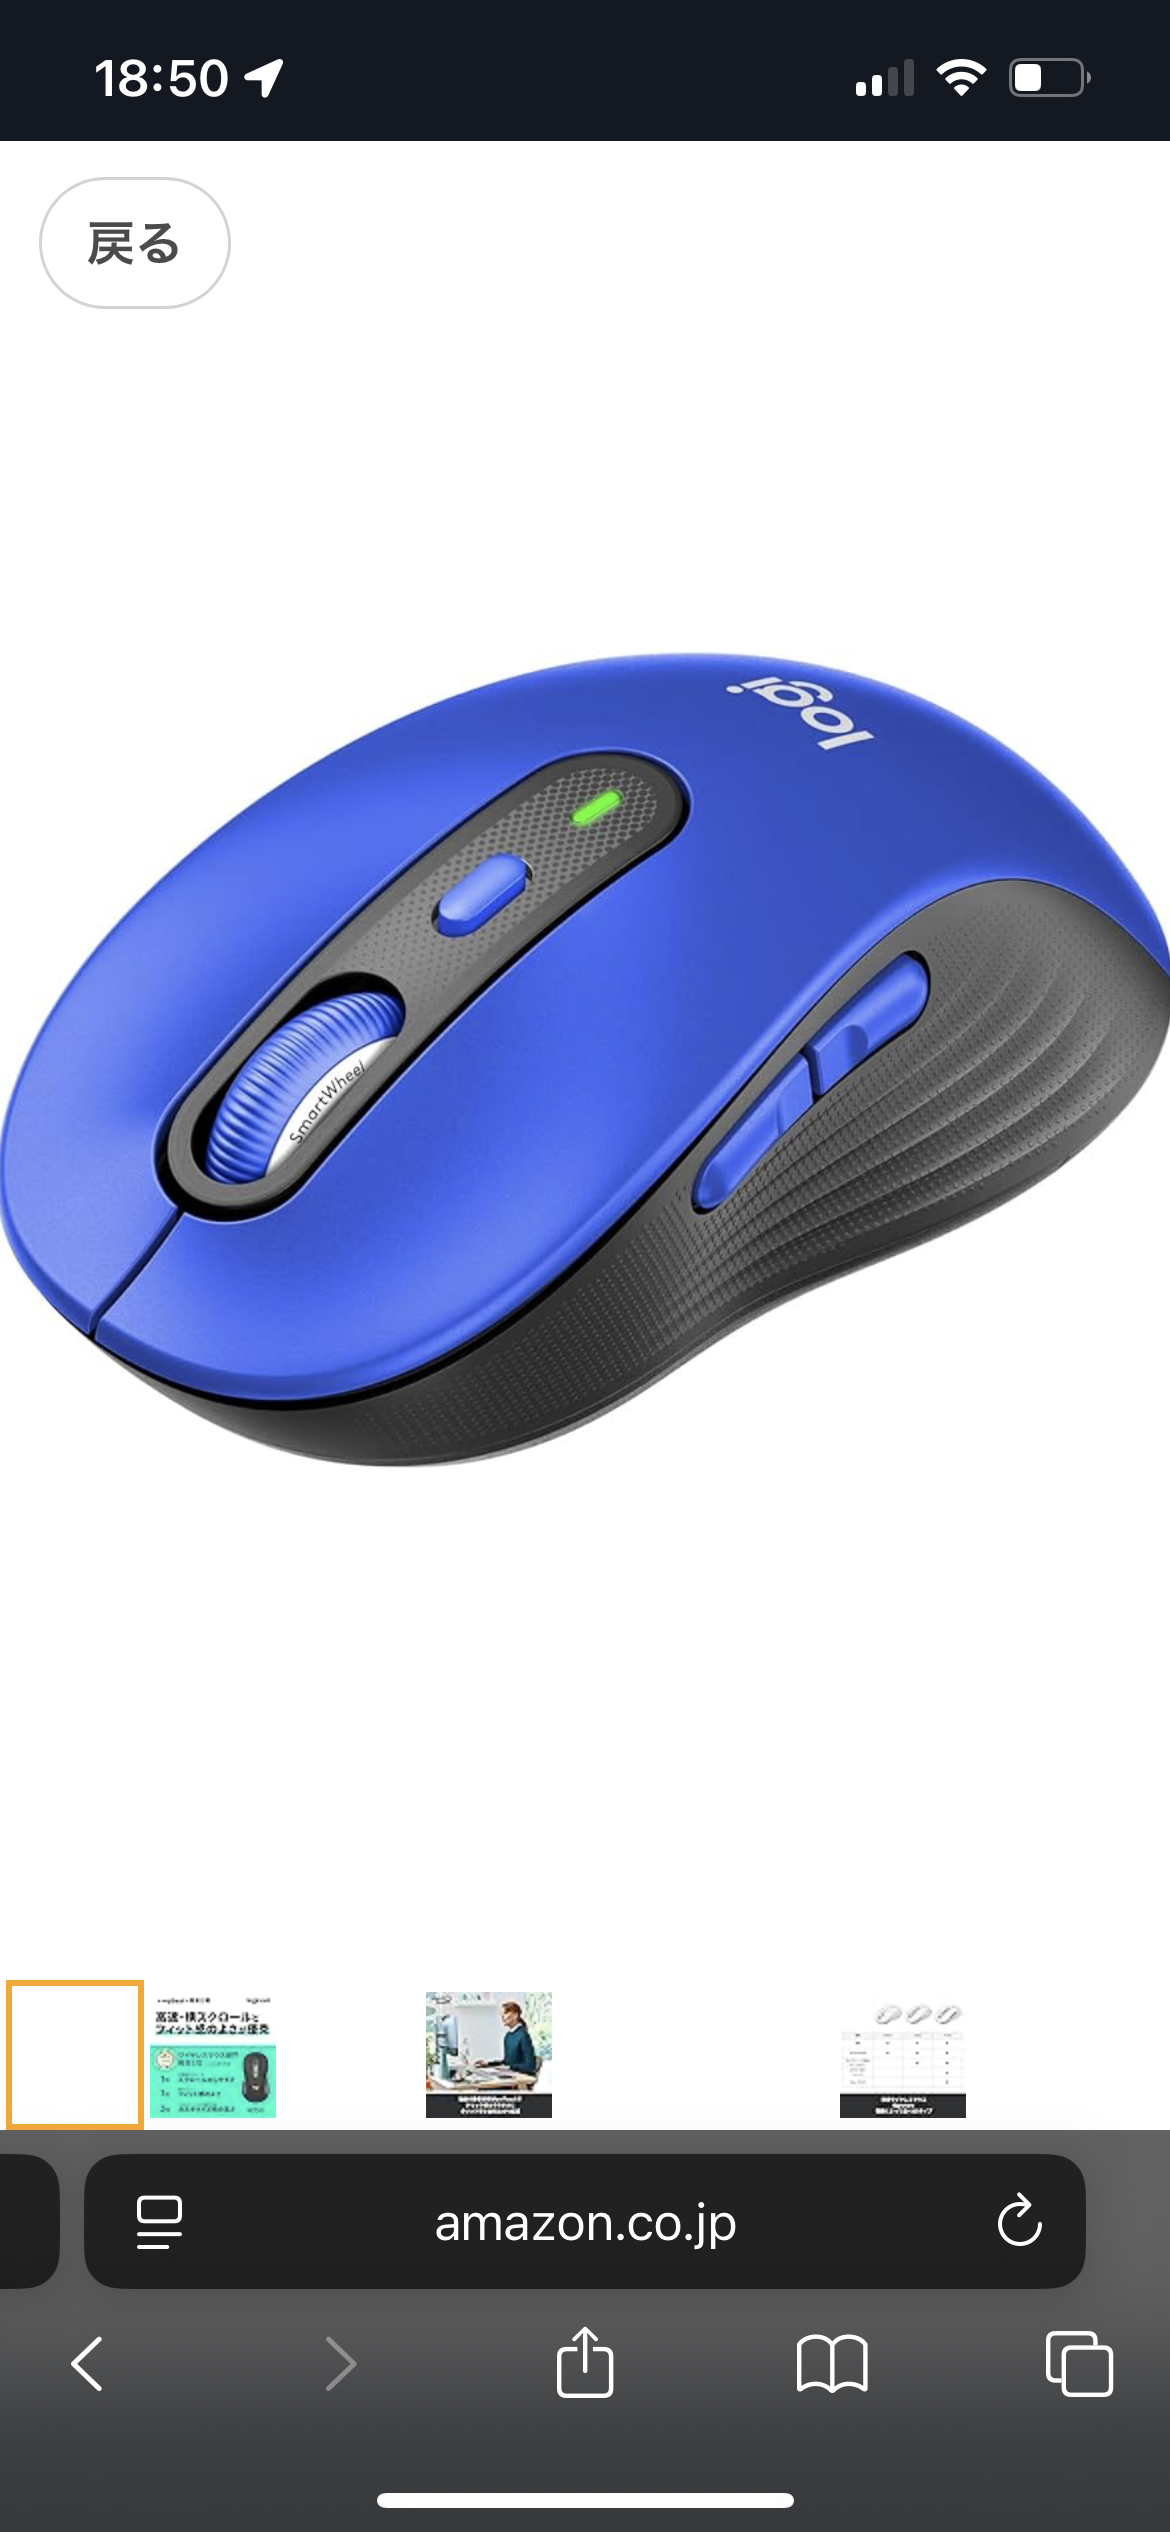mouse: (492, 617, 678, 1436)
